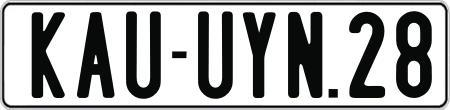2: (346, 12, 386, 102)
8: (395, 10, 433, 101)
A: (77, 9, 117, 99)
K: (31, 9, 65, 101)
N: (287, 11, 327, 103)
U: (126, 10, 166, 98), (197, 11, 232, 105)
Y: (243, 11, 277, 101)
